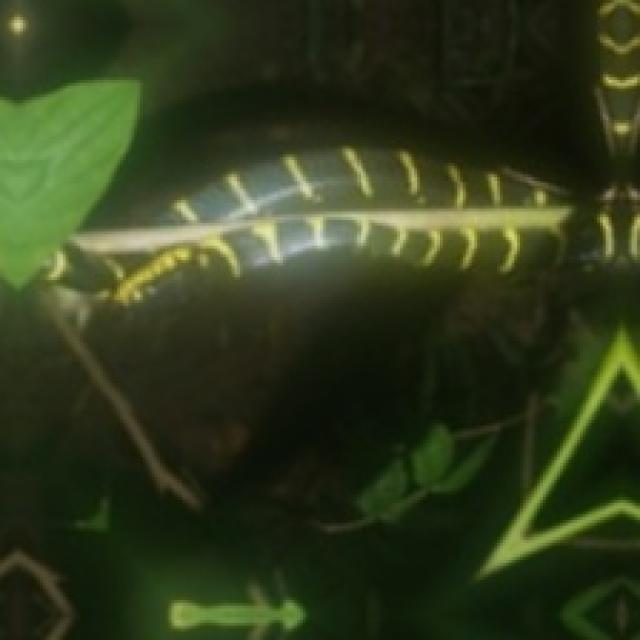mangrove cat snake: (45, 150, 574, 328)
